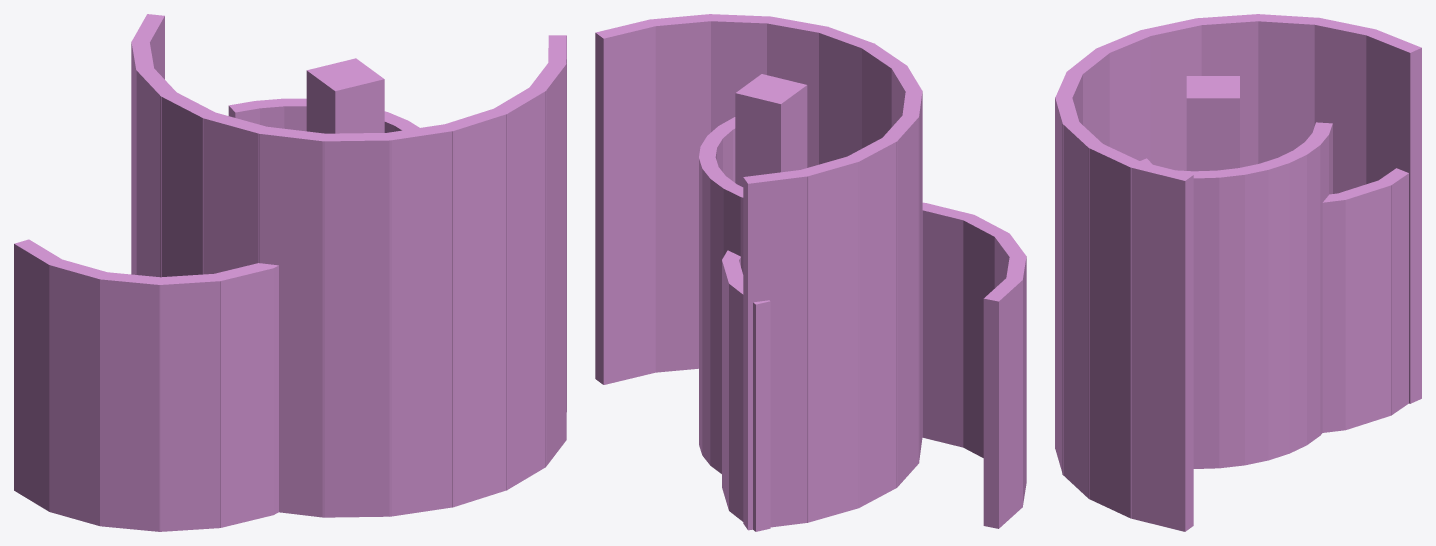
The model's file is folie_tag_032.glb.
3 renders of one model, left to right at view 1: azimuth 30°, elevation 25°; view 2: azimuth 150°, elevation 25°; view 3: azimuth 270°, elevation 25°, orthographic. The views are drawn at different scales.
Visible parts, largest first — view 1: folie_tag_032_00_curve, folie_tag_032_01_curve, folie_tag_032_core, folie_tag_032_02_curve; view 2: folie_tag_032_00_curve, folie_tag_032_01_curve, folie_tag_032_02_curve, folie_tag_032_core; view 3: folie_tag_032_00_curve, folie_tag_032_02_curve, folie_tag_032_01_curve, folie_tag_032_core.
Part boxes in pixels (x1,y1,x2,y2): folie_tag_032_00_curve: (131,14,566,517); folie_tag_032_01_curve: (14,239,278,531); folie_tag_032_core: (306,58,384,133); folie_tag_032_02_curve: (228,98,419,132); folie_tag_032_00_curve: (595,14,922,530); folie_tag_032_01_curve: (722,202,1026,531); folie_tag_032_02_curve: (699,117,743,473); folie_tag_032_core: (735,74,807,186); folie_tag_032_00_curve: (1055,14,1421,531); folie_tag_032_02_curve: (1176,122,1332,468); folie_tag_032_01_curve: (1140,158,1408,432); folie_tag_032_core: (1186,76,1239,171).
Size of the model in its own units: 11.02 by 8 by 7.58.
